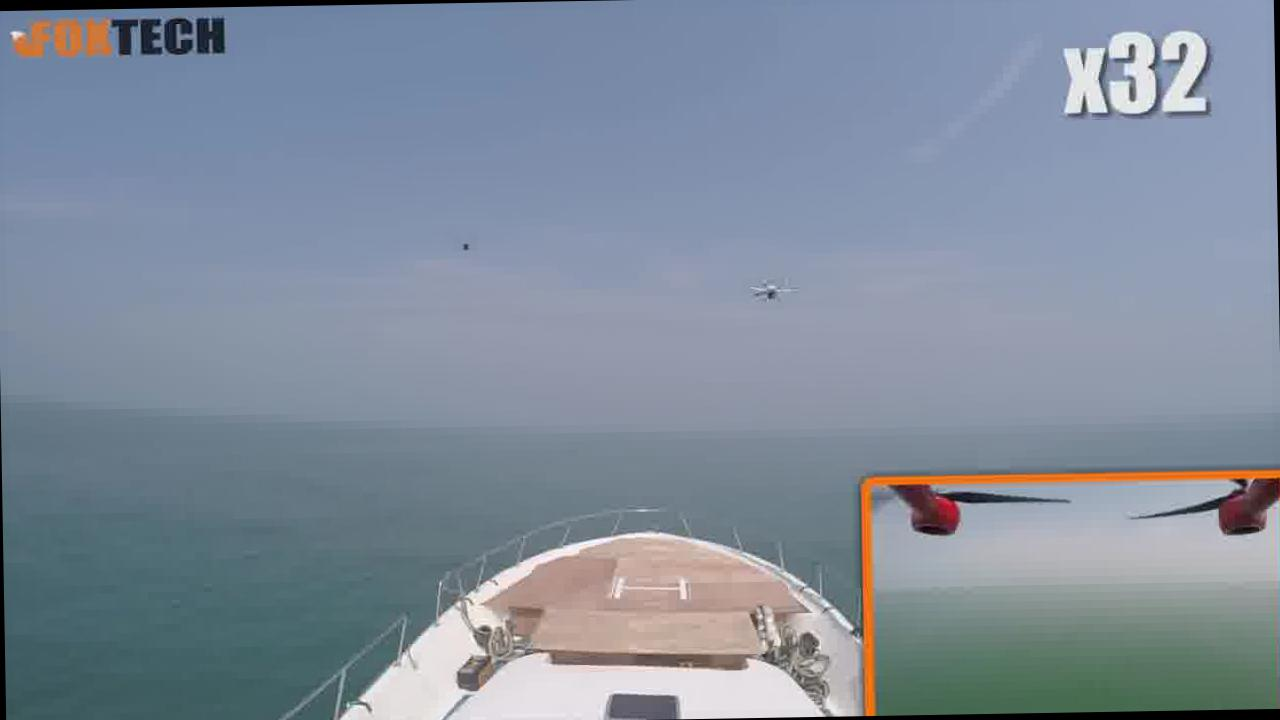drone: (446, 222, 504, 270), (740, 270, 796, 315)
